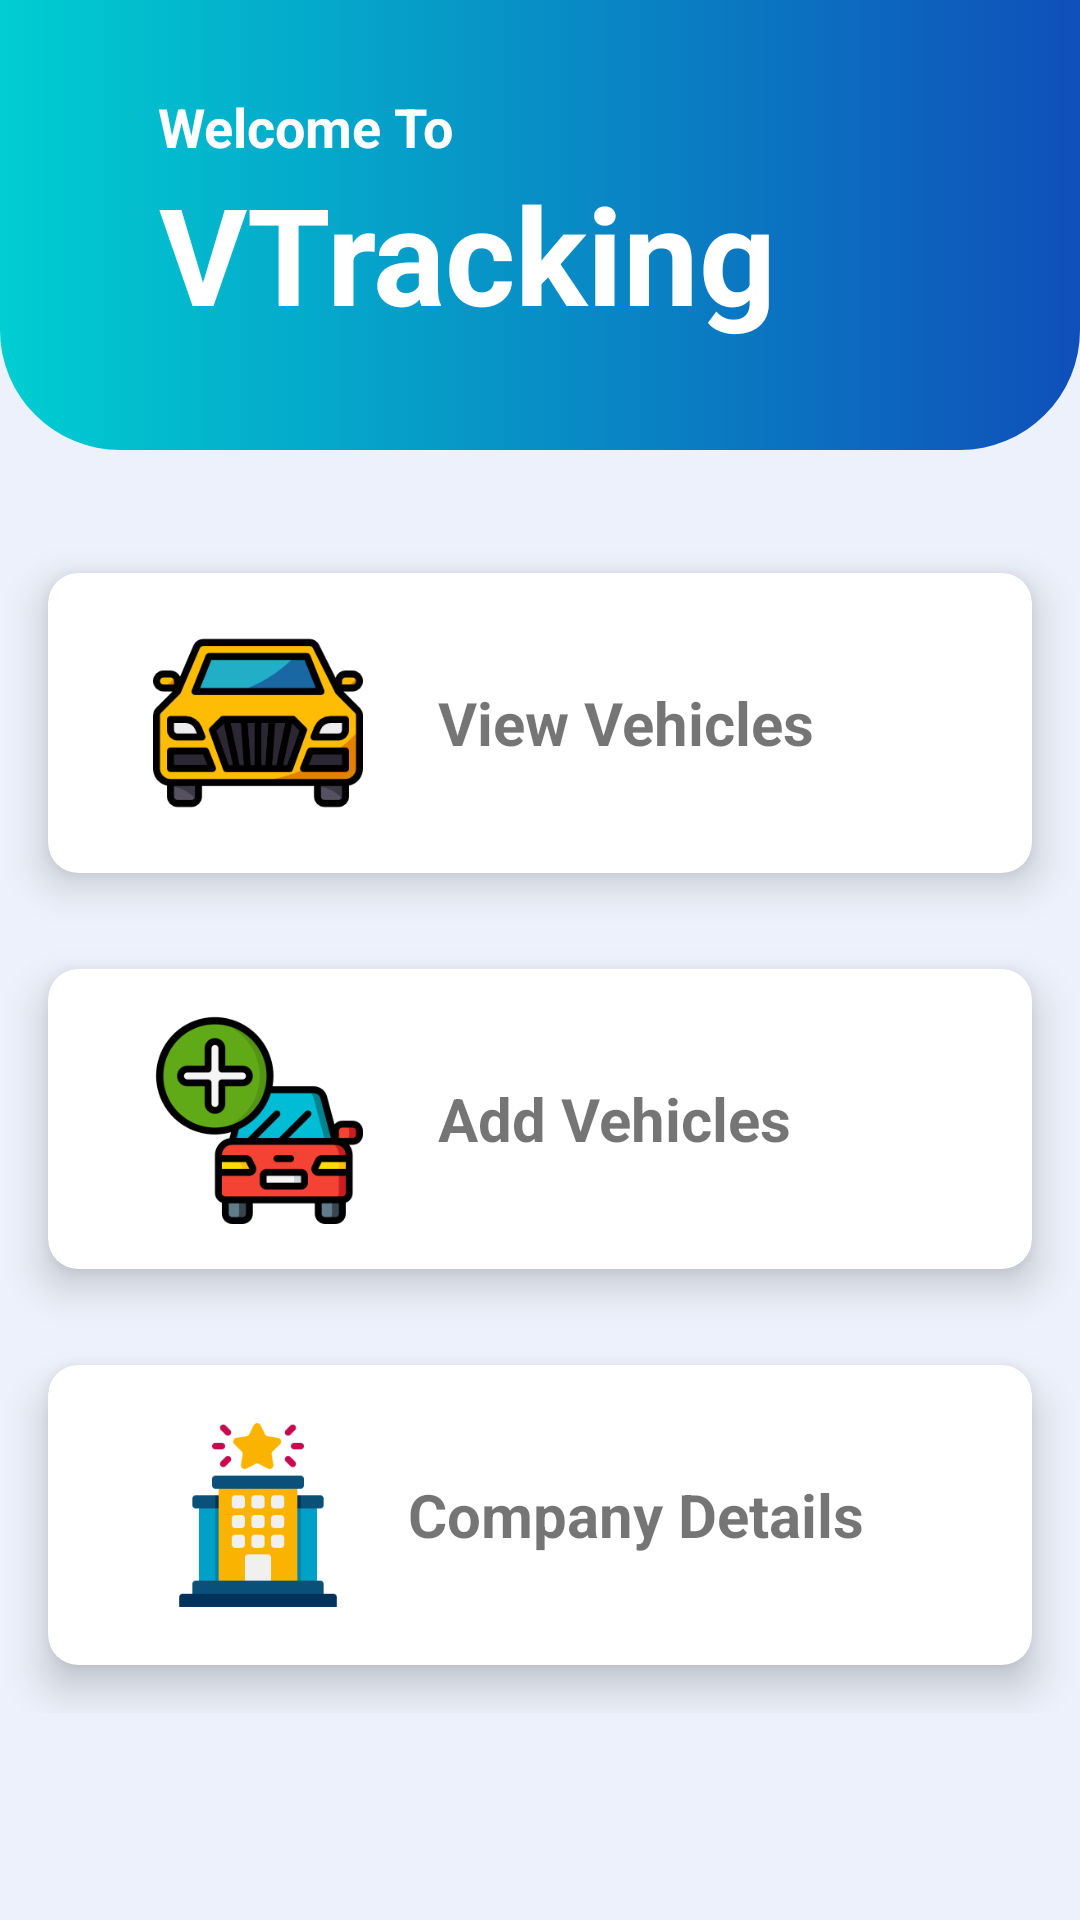

Screen size 1080 × 1920. Icon name, then its center in pixels as (x,y):
add car: (259,1120)
view car: (258,723)
